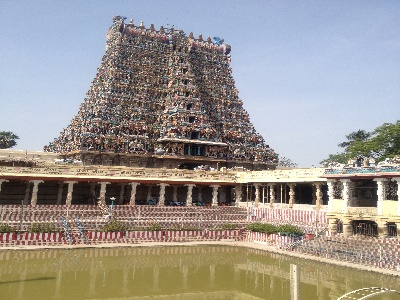gopura: (56, 17, 271, 167)
